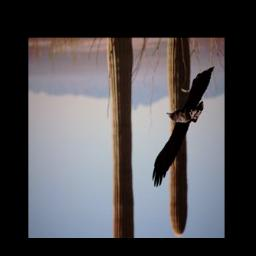Crow: (150, 64, 215, 189)
